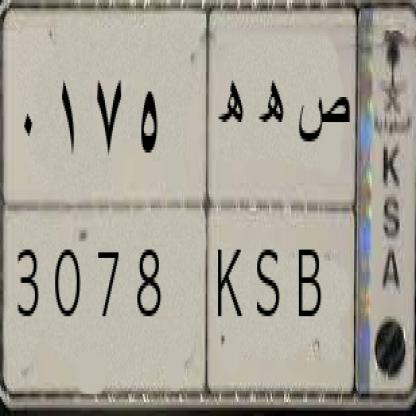english: (2, 194, 355, 416)
